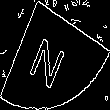N_NE: (33, 23, 77, 87)
